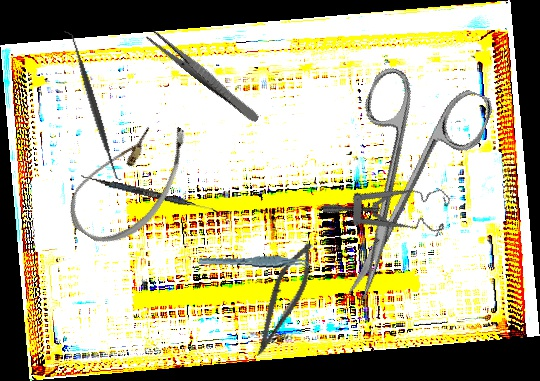Cannula: (58, 98, 202, 261)
Dressing Forceps: (144, 27, 263, 125)
Iris Scissors: (296, 55, 497, 318)
Micro Scissor: (248, 237, 321, 363)
Spatula Surgical: (62, 26, 125, 185), (79, 174, 222, 214)
Speculum: (319, 147, 459, 262)
Tissue Forceps: (198, 244, 313, 281)
